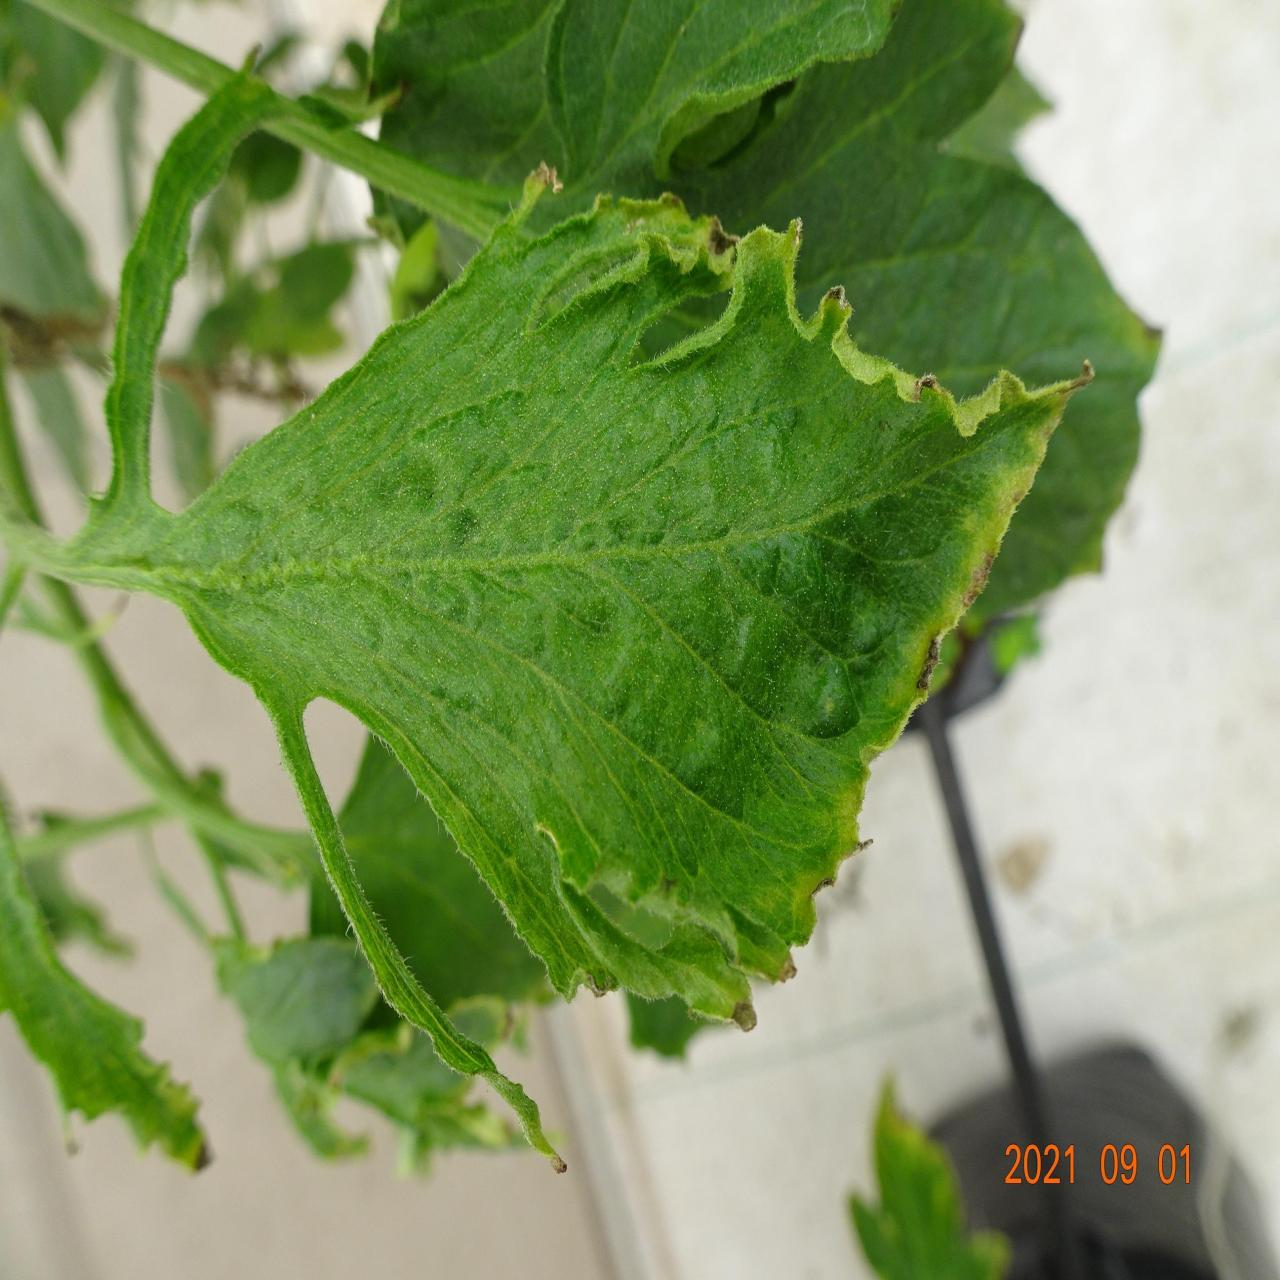T_L_R: (154, 200, 1076, 1017)
